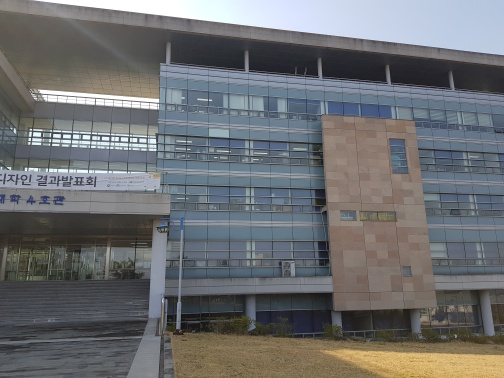Engineering College Building 4: (157, 15, 504, 307), (9, 16, 150, 285)
